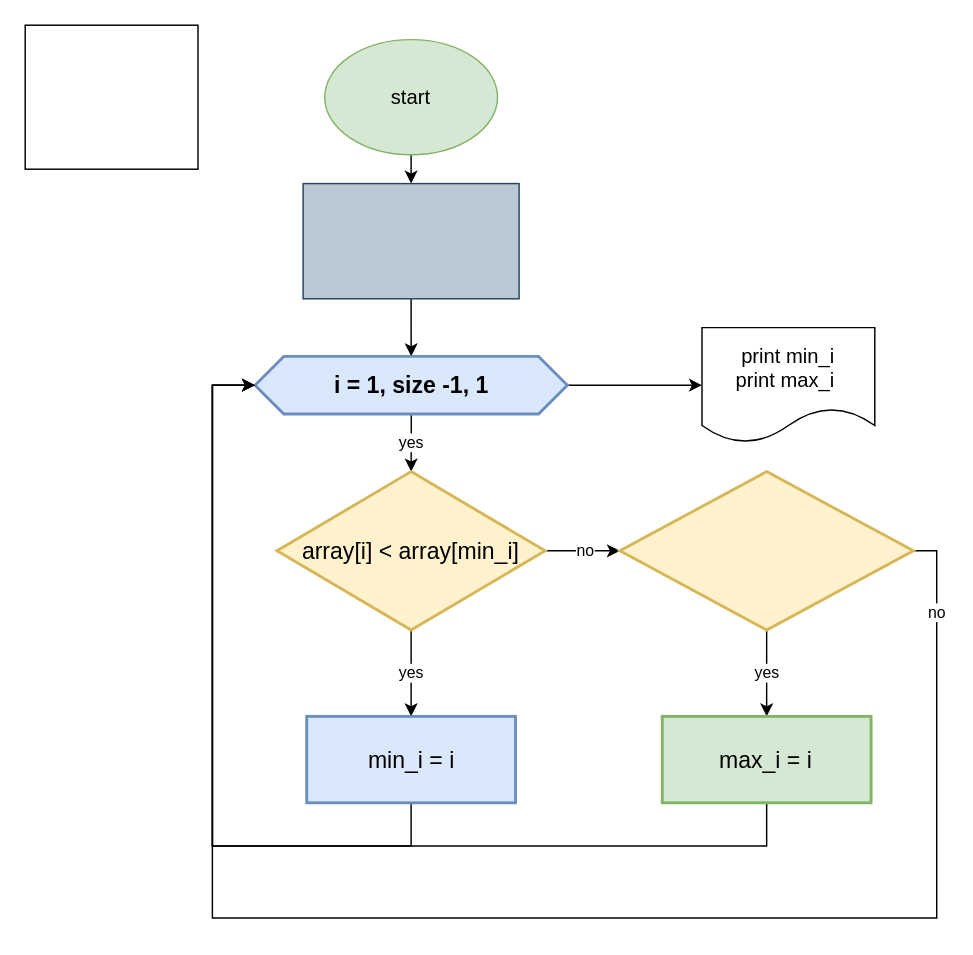
Image size: 973x955. Some labels were removed from this diagram. Here are the shapes that lost their labels. From the top down, the centre of each, then its label:
At (111,96): "нахождение индексов максимального и минимально элементов массива".
At (410,240): "array [2, 7, 5, 9, 3] size = 5 min_i = 0 max_i = 0".
At (766,550): "array[i] > array[max_i]".
